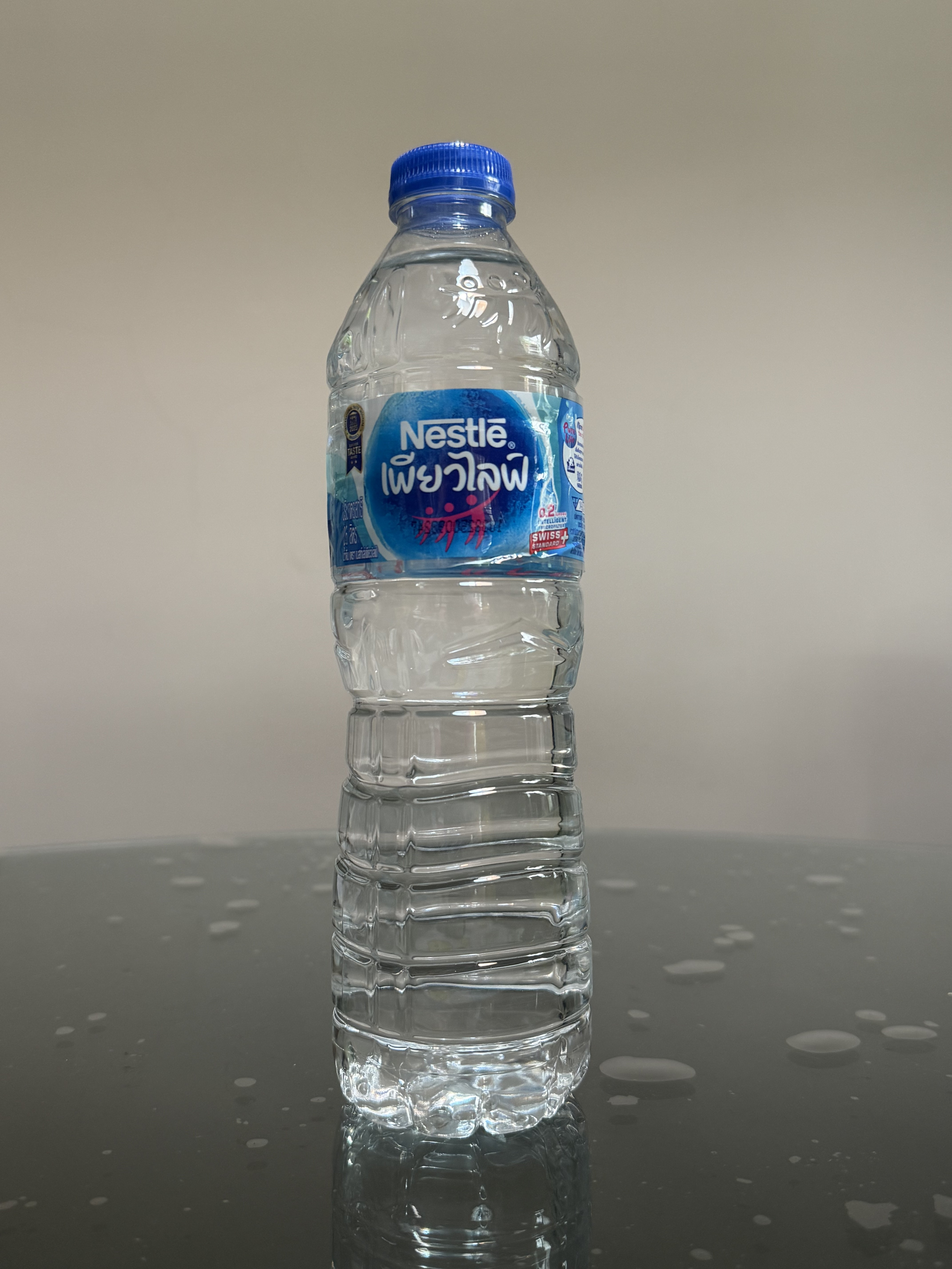closed_cap: (385, 137, 517, 223)
